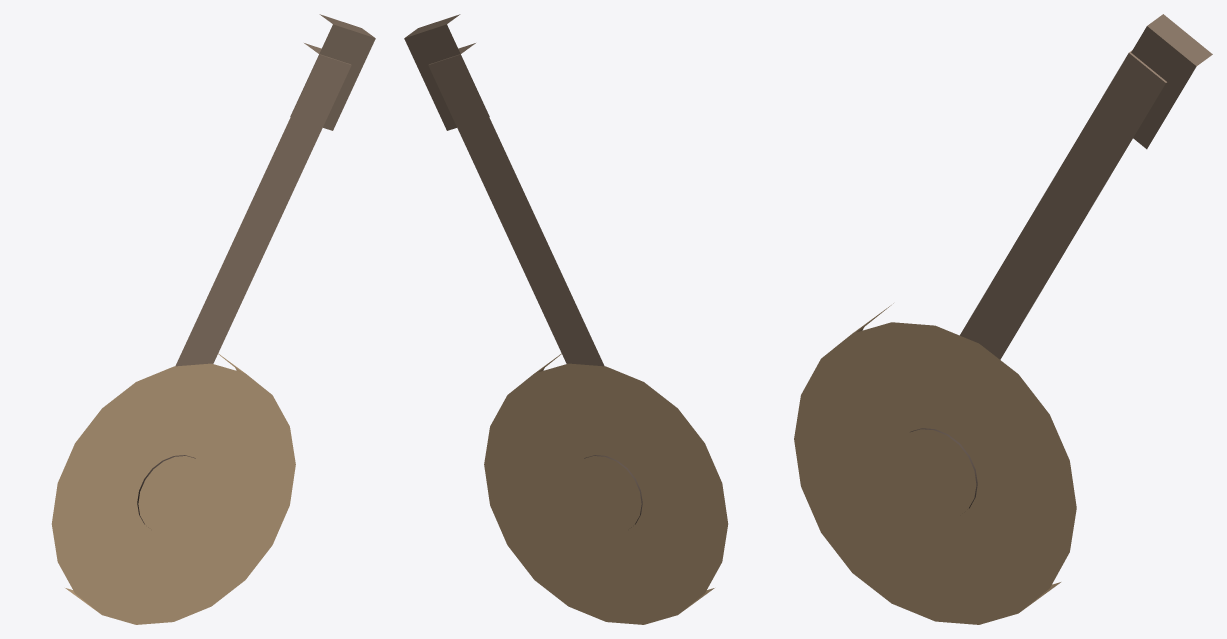
The model's file is guitar.glb.
3 views of the same model, side by side, from view 1: azimuth 30°, elevation 25°; view 2: azimuth 150°, elevation 25°; view 3: azimuth 330°, elevation 25° (orthographic). The views are drawn at different scales.
Parts seen in each view (by area): view 1: guitar; view 2: guitar; view 3: guitar.
Part boxes in pixels (left/top/right/bottom): guitar: left=51, top=14, right=375, bottom=624; guitar: left=404, top=14, right=728, bottom=624; guitar: left=794, top=14, right=1212, bottom=624.
Bounding box in the file's own units: 0.8254 × 1.29 × 0.17.
